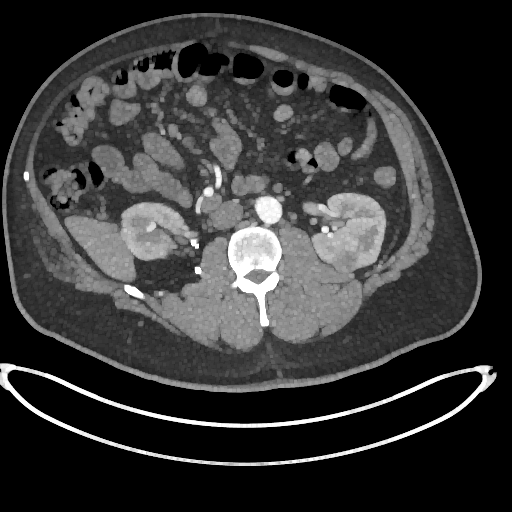Lesion: (329, 247, 362, 273)
